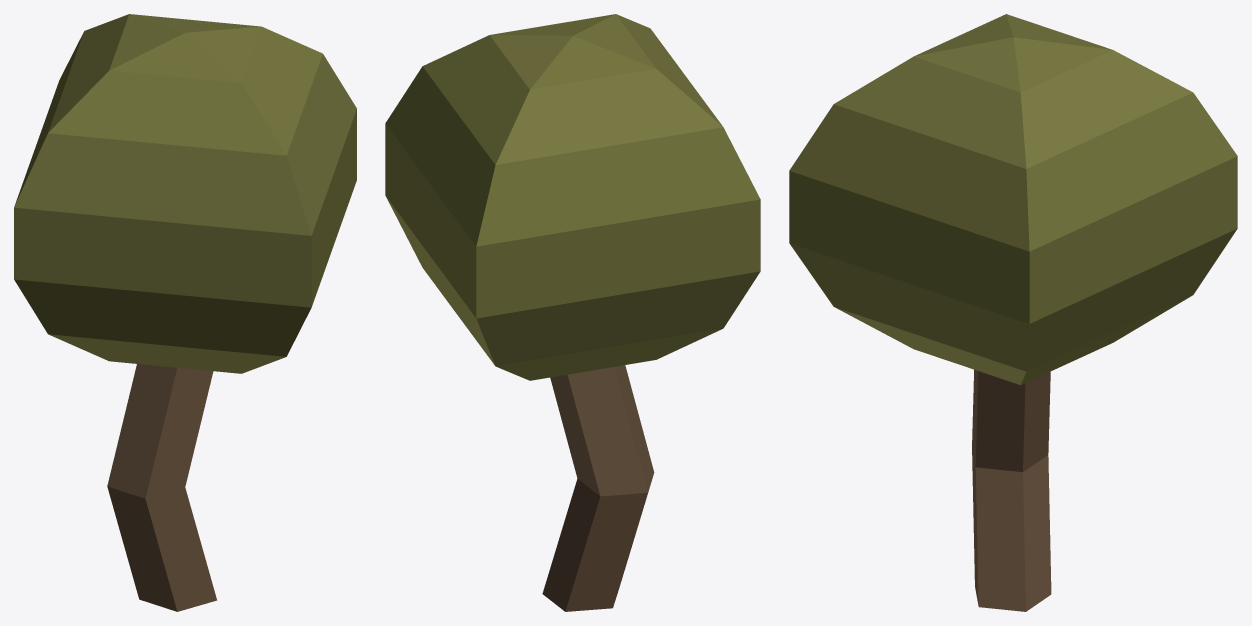
File: Tree.fbx
3 views of the same model, side by side, from view 1: azimuth 30°, elevation 25°; view 2: azimuth 150°, elevation 25°; view 3: azimuth 270°, elevation 25° (orthographic).
Parts seen in each view (by area): view 1: Tree; view 2: Tree; view 3: Tree.
Part boxes in pixels (x1=…): Tree: x1=14, y1=14, x2=356, y2=611; Tree: x1=385, y1=14, x2=760, y2=611; Tree: x1=789, y1=14, x2=1237, y2=611.
Bounding box in the file's own units: 23.52 × 34.99 × 25.27.
